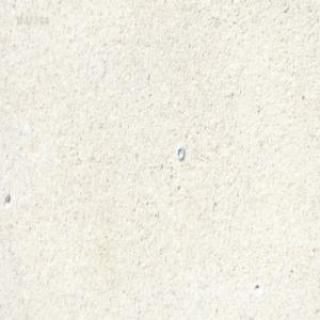Washertrack_idkeyframe: (176, 146, 184, 162)
